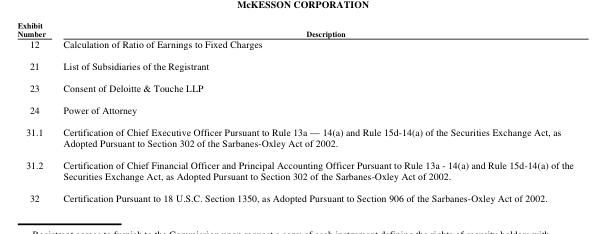table: (16, 28, 572, 203)
table column: (53, 28, 572, 203), (16, 28, 53, 203)
table column header: (16, 28, 572, 38)
table row: (16, 120, 572, 153), (16, 153, 572, 186), (16, 54, 572, 76), (16, 76, 572, 98), (16, 98, 572, 120), (16, 186, 572, 203), (16, 38, 572, 54), (16, 28, 572, 38)
